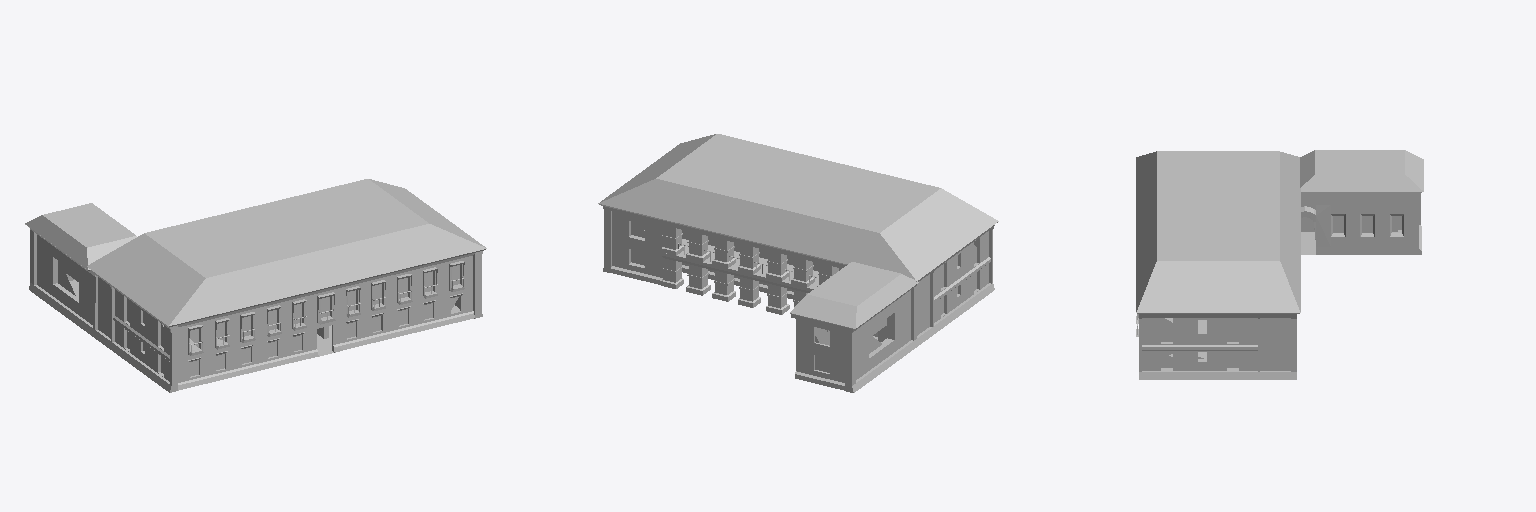
File: MuseuPIBIC2.obj
3 renders of one model, left to right at view 1: azimuth 30°, elevation 25°; view 2: azimuth 150°, elevation 25°; view 3: azimuth 270°, elevation 25°, orthographic.
Parts seen in each view (by area): view 1: Cube, Cube.002; view 2: Cube, Cube.002; view 3: Cube, Cube.002.
Part boxes in pixels (x1,y1,x2,y2): Cube: (25,179,486,392); Cube.002: (58,261,460,376); Cube: (598,134,998,392); Cube.002: (629,221,978,372); Cube: (1136,150,1423,379); Cube.002: (1161,216,1401,369).
Bounding box in the file's own units: 7.95 × 2.38 × 6.21.